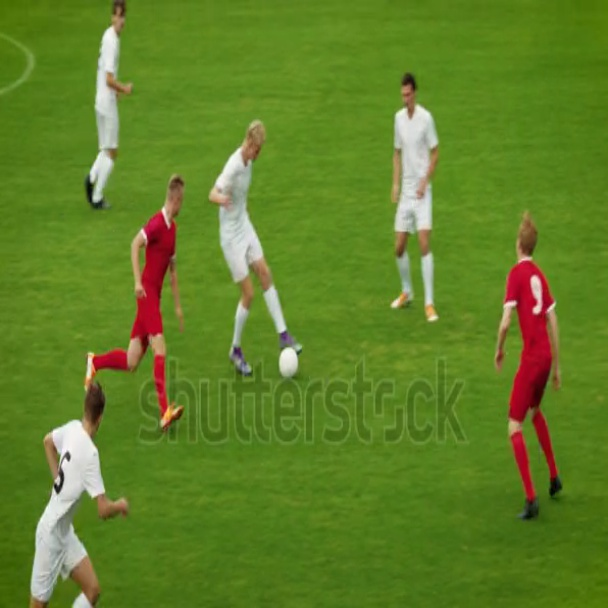ball: (274, 342, 304, 388)
